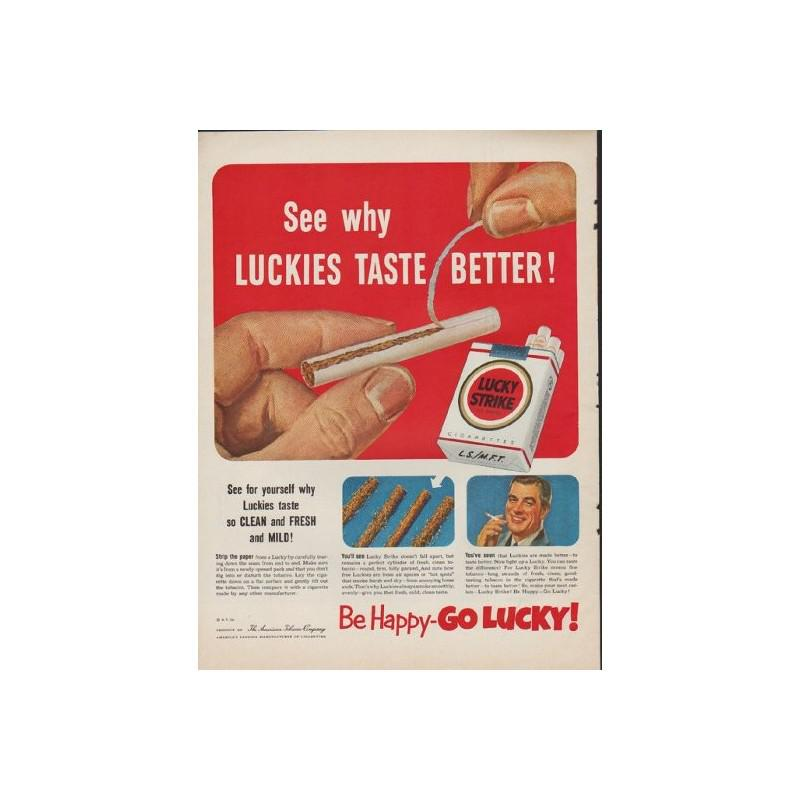lucky_strike_red: (452, 342, 537, 442)
